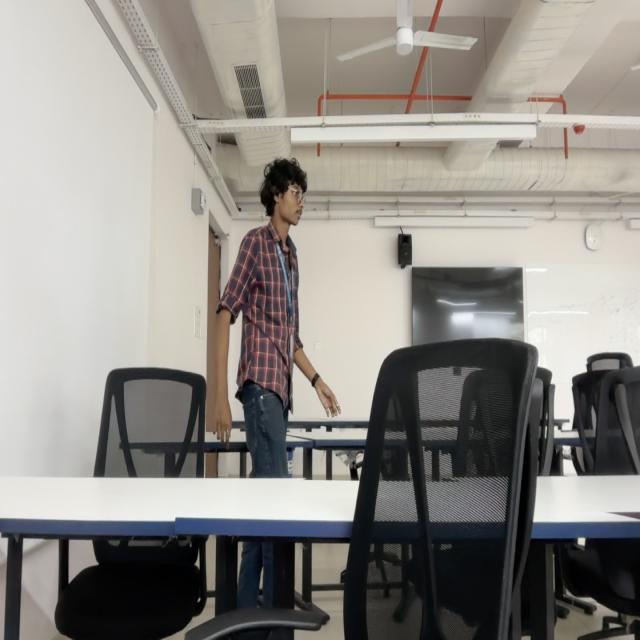darshan: (258, 153, 312, 228)
